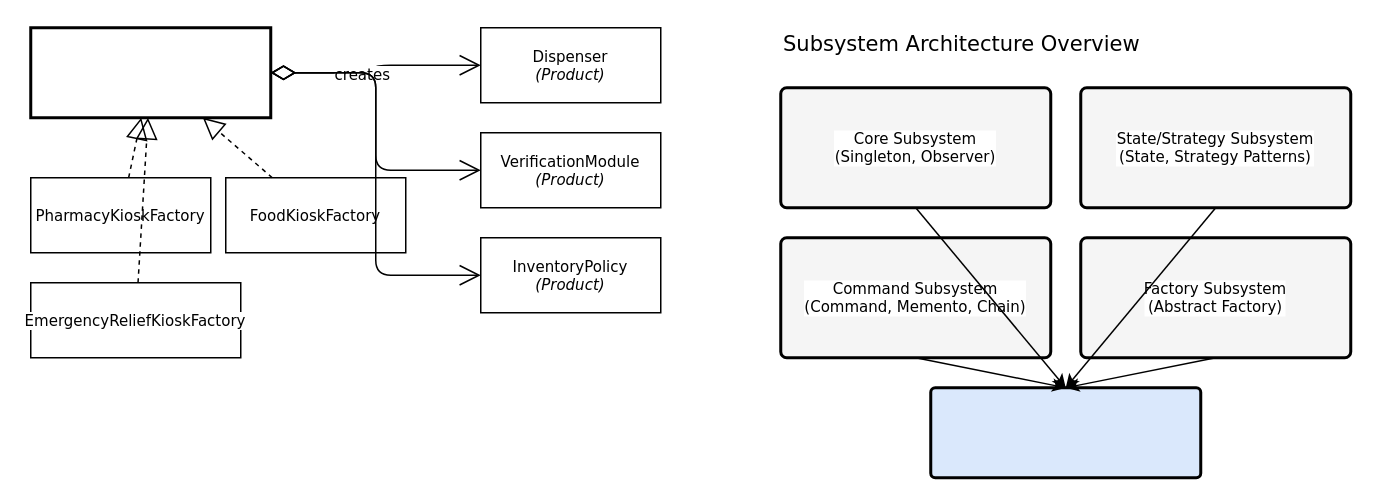
This 1379x504 diagram has some shape labels left out. The centre of each missing label's shape, as x and y in pixels:
Facade Layer (KioskInterface): the point at 1065,432
KioskFactory (Abstract Factory): the point at 150,72
